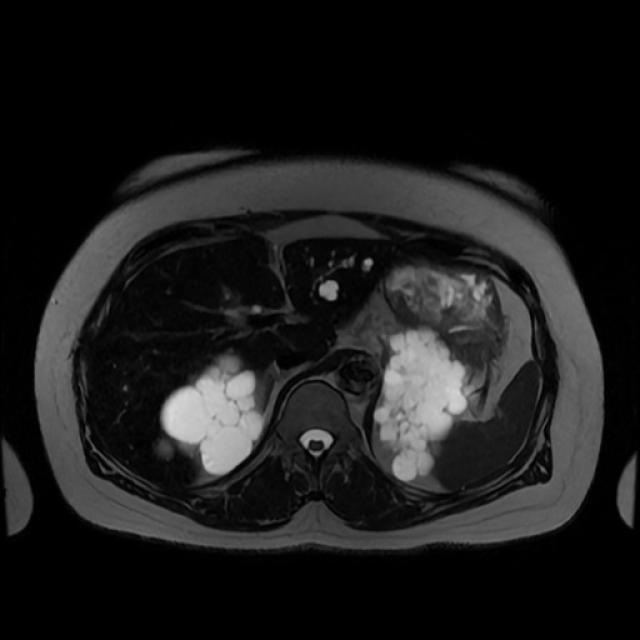sag: (154, 352, 260, 476)
sol: (374, 332, 473, 481)
